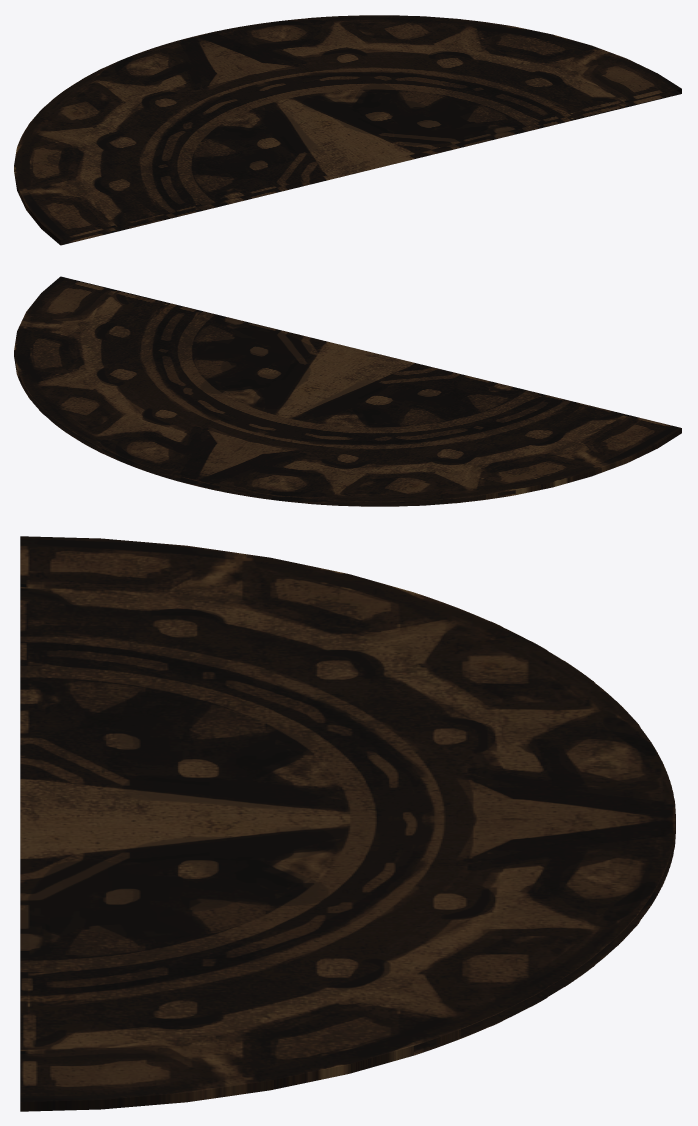
The model's file is O2_back.fbx.
3 views of the same model, one above another, from view 1: azimuth 30°, elevation 25°; view 2: azimuth 150°, elevation 25°; view 3: azimuth 270°, elevation 25° (orthographic). The views are drawn at different scales.
Visible parts, largest first — view 1: O2_back; view 2: O2_back; view 3: O2_back.
Part boxes in pixels (x1=…): O2_back: x1=14, y1=15, x2=681, y2=245; O2_back: x1=14, y1=276, x2=681, y2=506; O2_back: x1=20, y1=536, x2=675, y2=1111.
Size of the model in its own units: 3.79 by 0.0297 by 1.9.
